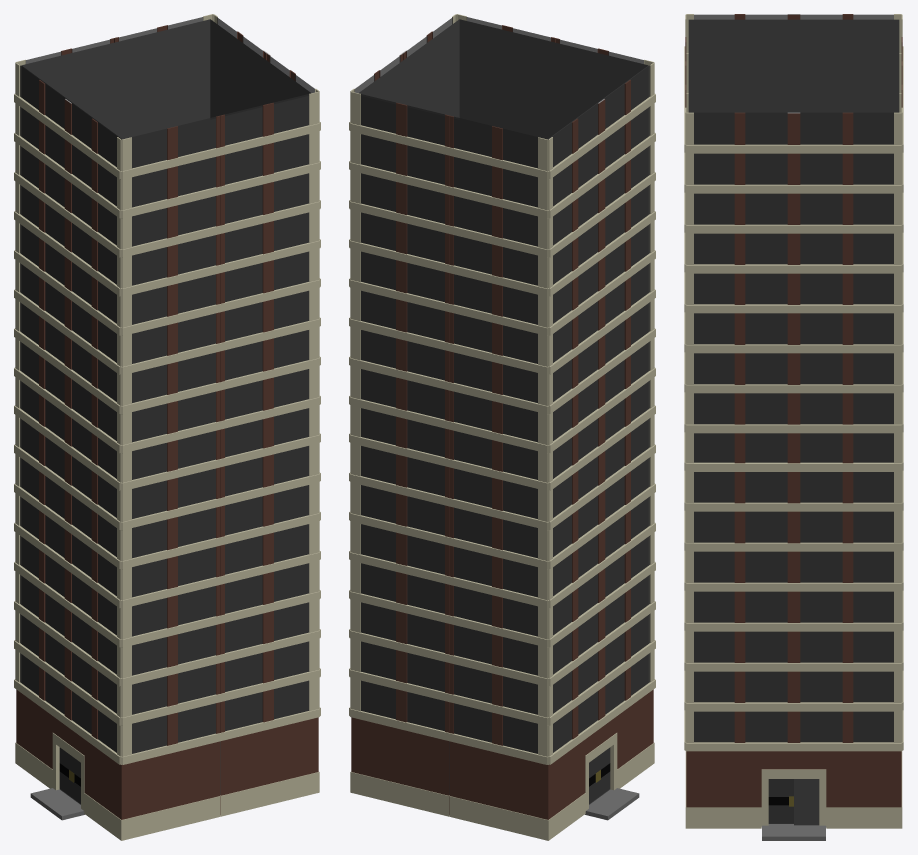
File: Proto-NewApt.fbx
3 views of the same model, side by side, from view 1: azimuth 30°, elevation 25°; view 2: azimuth 150°, elevation 25°; view 3: azimuth 270°, elevation 25° (orthographic). The views are drawn at different scales.
Parts seen in each view (by area): view 1: NewApt; view 2: NewApt; view 3: NewApt.
Part boxes in pixels (bbox=[...]): NewApt: bbox=[14, 14, 320, 840]; NewApt: bbox=[349, 14, 655, 840]; NewApt: bbox=[684, 14, 903, 840].
Bounding box in the file's own units: 8.21 × 22.73 × 6.31.
